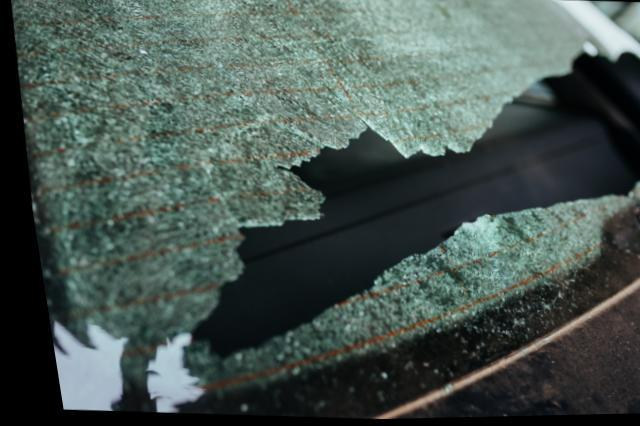glass shatter: (11, 0, 640, 420)
